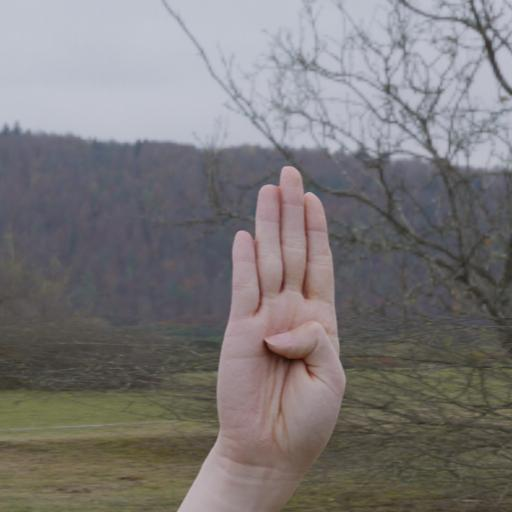B: (190, 154, 368, 474)
